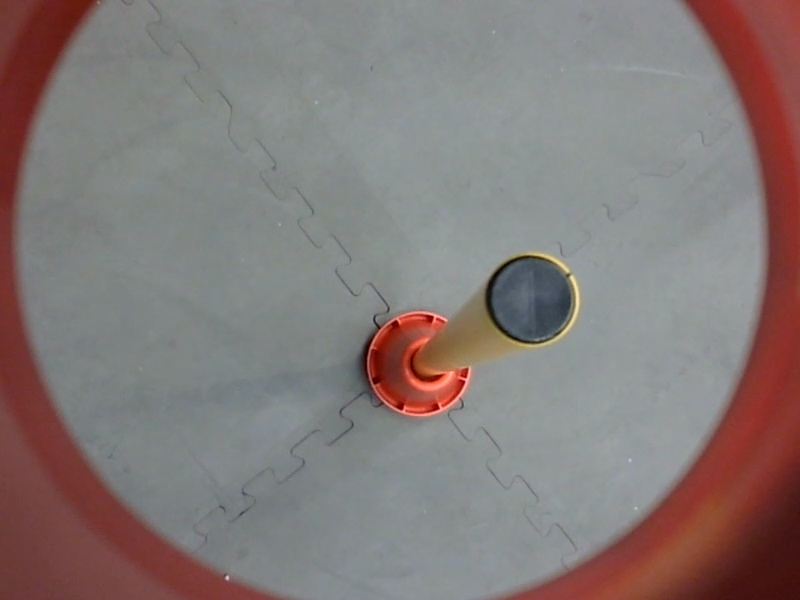tip: (476, 242, 586, 356)
